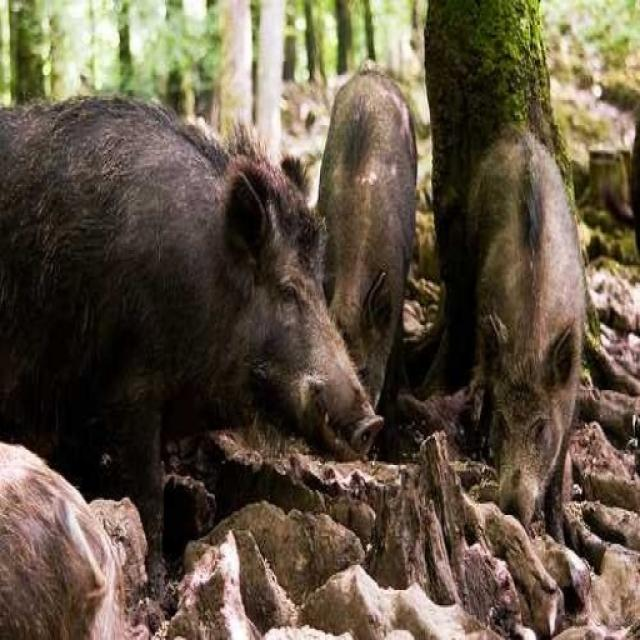pig: (0, 90, 389, 540), (448, 118, 632, 550), (315, 80, 435, 422)
